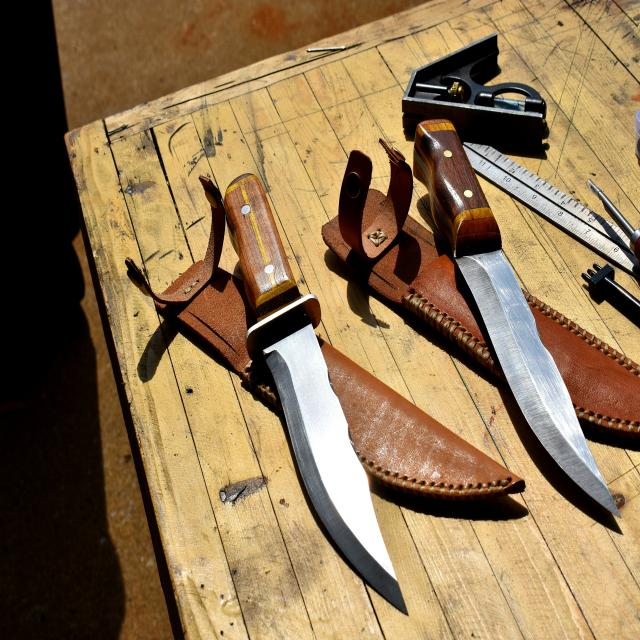knife: (412, 116, 621, 521), (225, 175, 409, 621)
